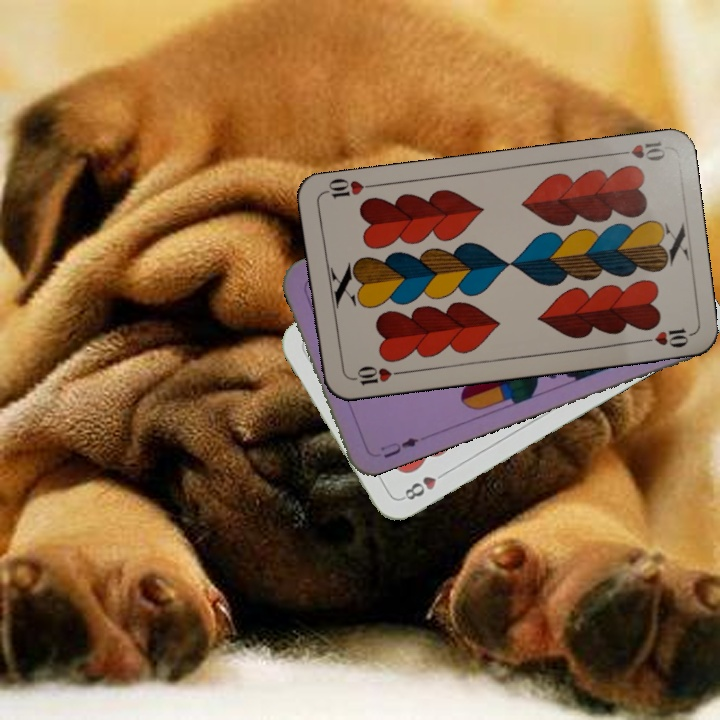EU: (376, 433, 421, 461)
H10: (609, 137, 668, 164), (345, 362, 405, 388)
H8: (397, 466, 451, 503)
